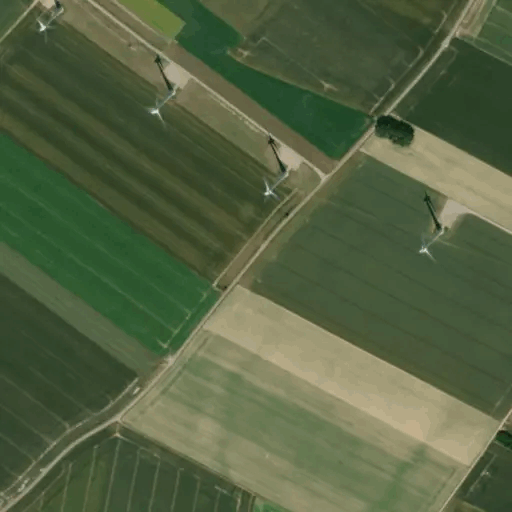wt: (412, 185, 452, 265), (140, 50, 179, 132), (257, 128, 294, 205), (31, 1, 70, 45)
